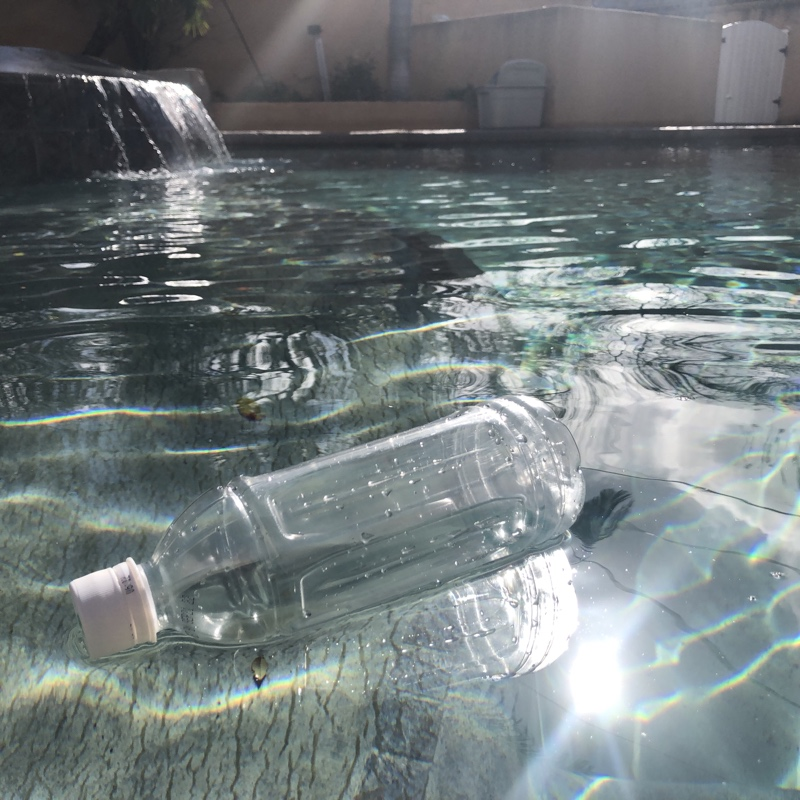Plastic Bottle: (59, 392, 590, 677)
